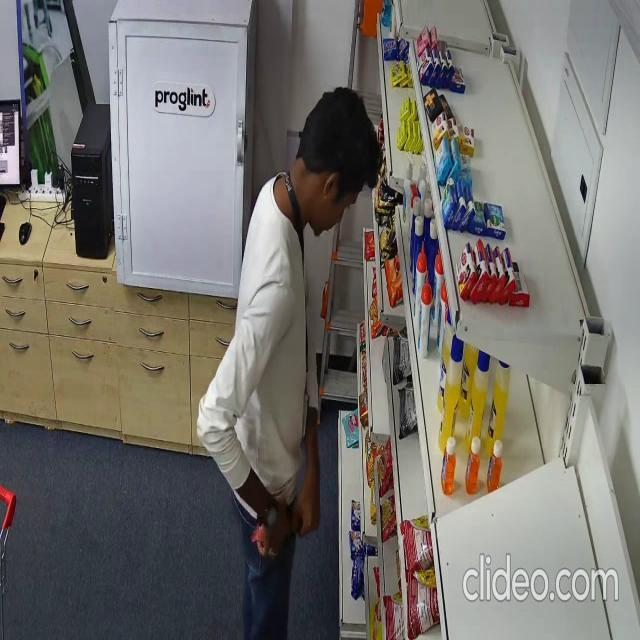Shoplifting: (198, 84, 384, 640)
